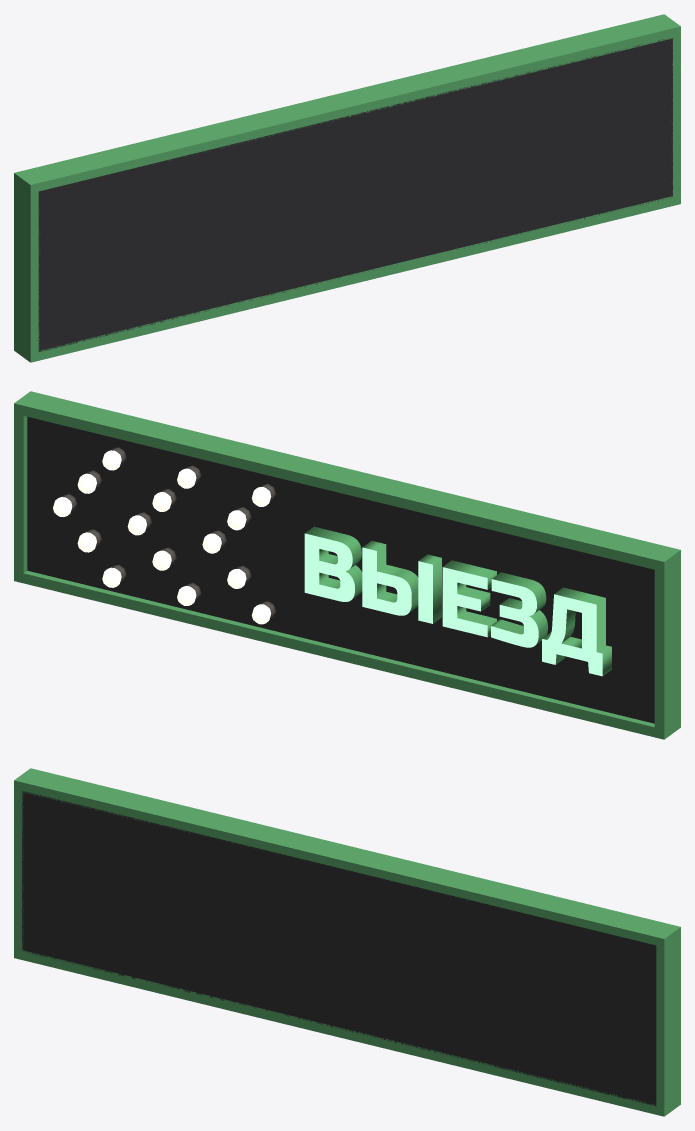
Rendered from arrow_exit_left.glb.
3 views of the same model, one above another, from view 1: azimuth 30°, elevation 25°; view 2: azimuth 150°, elevation 25°; view 3: azimuth 330°, elevation 25° (orthographic).
Parts seen in each view (by area): view 1: Sign; view 2: Sign, BulbsA, BulbsB; view 3: Sign.
Part boxes in pixels (x1,y1,x2,y2): Sign: [14, 14, 680, 362]; Sign: [14, 391, 680, 739]; BulbsA: [53, 450, 271, 624]; BulbsB: [127, 468, 196, 605]; Sign: [14, 768, 680, 1116].
Bounding box in the file's own units: 4.06 × 1.06 × 0.268.
